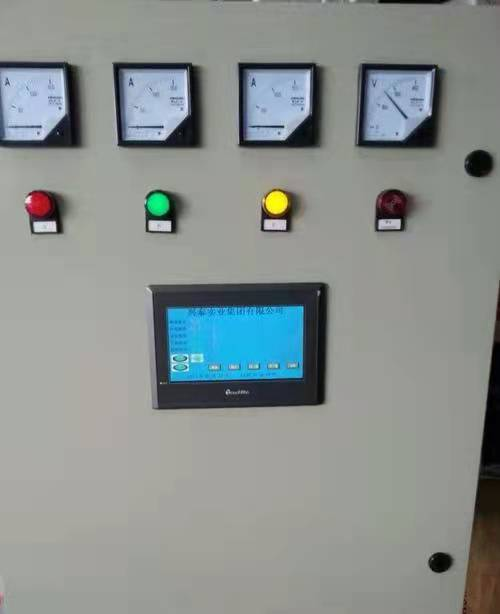pointer: (113, 62, 195, 144), (359, 62, 435, 148), (239, 62, 314, 141), (1, 63, 71, 143)
